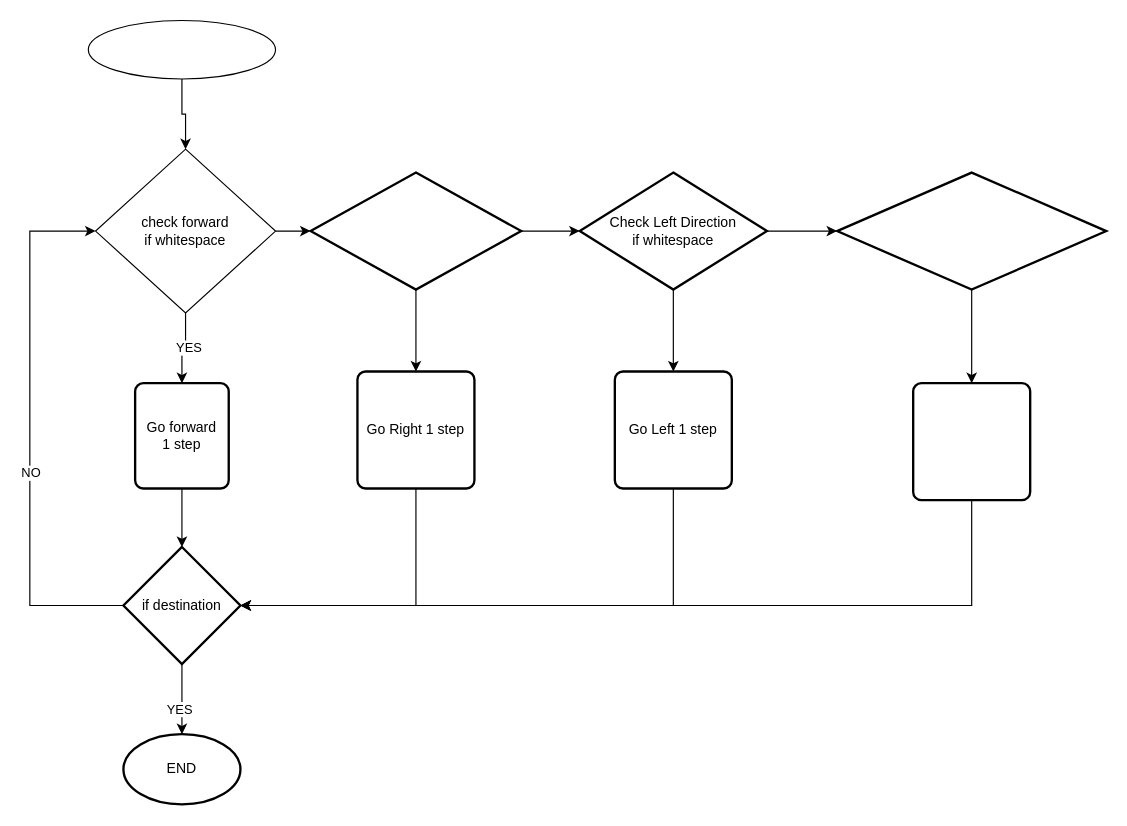
The diagram is 1127 pixels wide and 826 high, and some of its shapes have lost their labels. The shapes that lost their labels are listed below. From the top down, each one's box as (x1, y1, x2, y2) in pixels, then its label:
(87, 19, 276, 79): Start
(309, 171, 522, 290): Check Right Direction if whitespace
(835, 171, 1107, 290): Check Backwards Direction if whitespace
(911, 381, 1031, 501): Gp Backward 1 step
